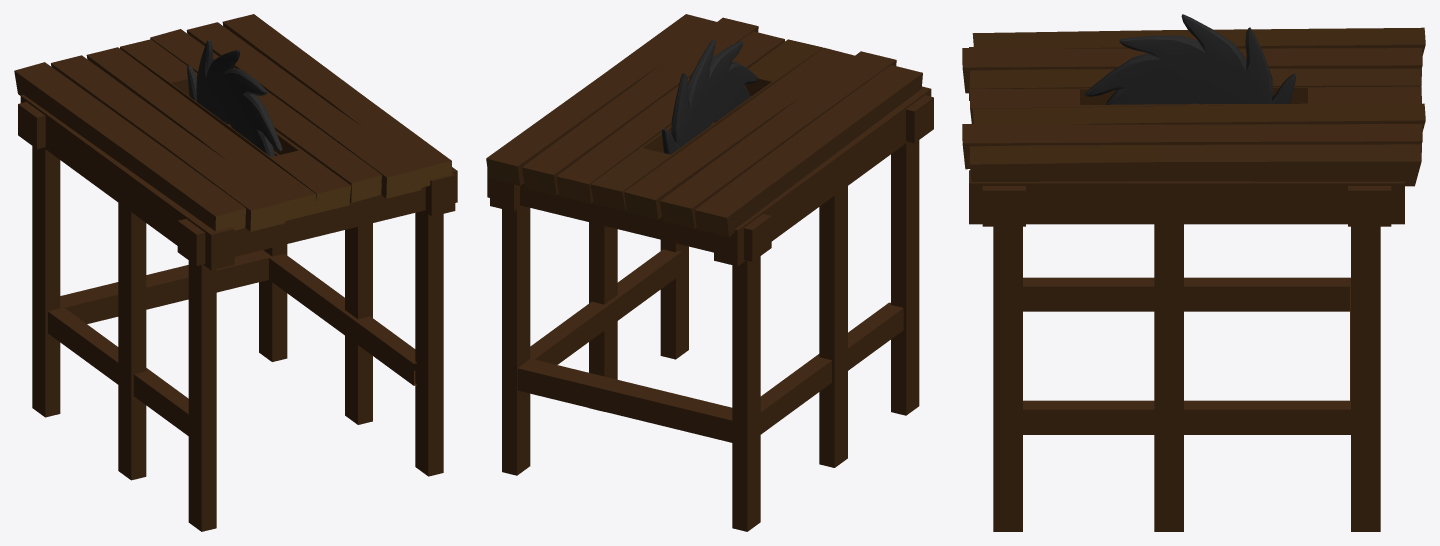
File: sega_circolare.fbx
3 views of the same model, side by side, from view 1: azimuth 30°, elevation 25°; view 2: azimuth 150°, elevation 25°; view 3: azimuth 270°, elevation 25° (orthographic). The views are drawn at different scales.
Parts seen in each view (by area): view 1: Houses_FirstAge_3_Level1, Hazard_Saw; view 2: Houses_FirstAge_3_Level1, Hazard_Saw; view 3: Houses_FirstAge_3_Level1, Hazard_Saw.
Part boxes in pixels (bbox=[...]): Houses_FirstAge_3_Level1: bbox=[14, 14, 457, 531]; Hazard_Saw: bbox=[187, 39, 282, 156]; Houses_FirstAge_3_Level1: bbox=[486, 14, 933, 531]; Hazard_Saw: bbox=[661, 39, 758, 154]; Houses_FirstAge_3_Level1: bbox=[962, 27, 1425, 531]; Hazard_Saw: bbox=[1084, 14, 1296, 104].
Bounding box in the file's own units: 32.24 × 46.3 × 43.33.
